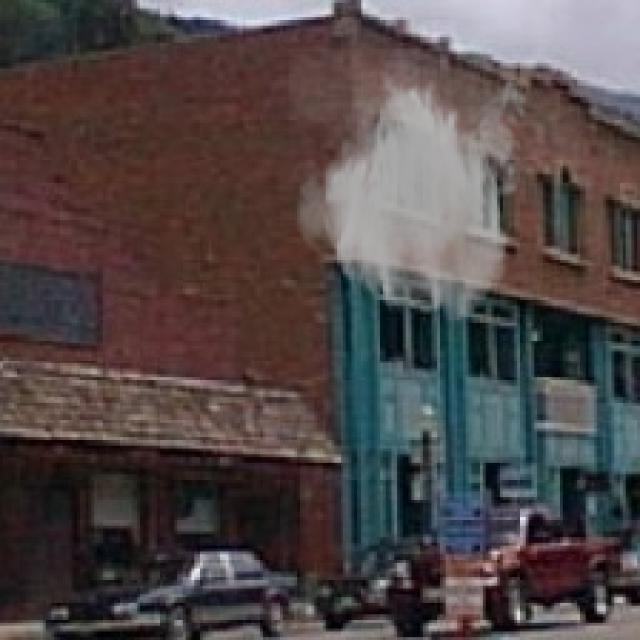Smoke: (288, 48, 534, 326)
